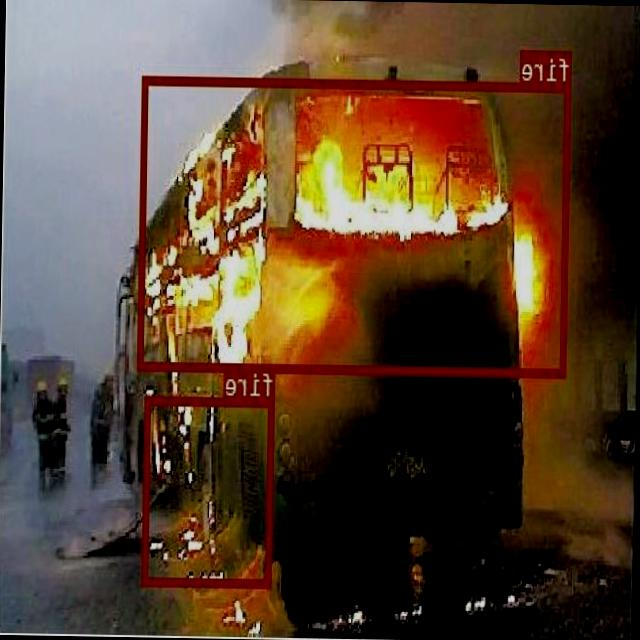fire: (138, 74, 572, 376), (143, 394, 274, 585)
